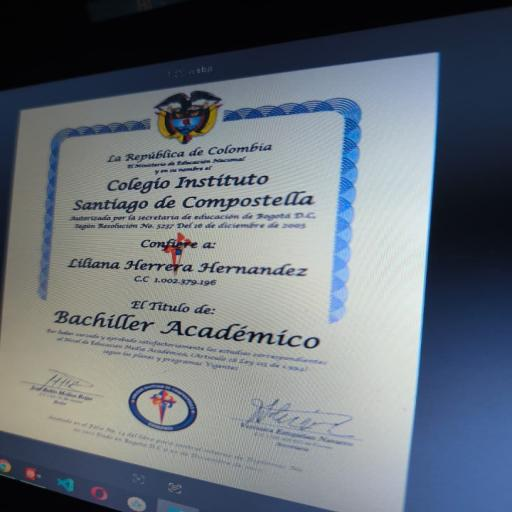bachillerato: (45, 300, 348, 361)
diploma: (12, 55, 436, 512)
escudo: (142, 92, 232, 149)
firma: (213, 387, 389, 461), (19, 357, 100, 415)
institucion: (62, 164, 351, 215)
nombre: (50, 251, 320, 289)
